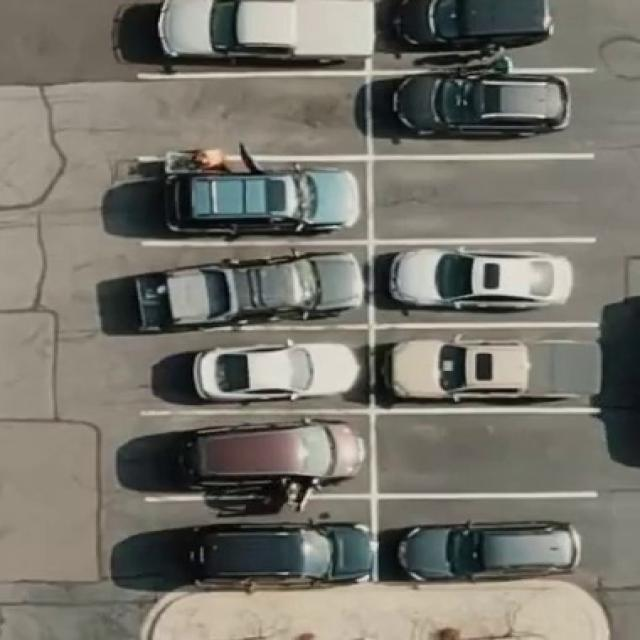empty: (378, 163, 593, 233), (144, 81, 362, 150), (380, 422, 592, 489)
notEmpty: (142, 415, 368, 493), (145, 508, 368, 582), (382, 332, 605, 406), (144, 250, 364, 321), (149, 335, 366, 406), (384, 505, 594, 578), (152, 164, 364, 236), (382, 250, 596, 320), (378, 81, 594, 149), (147, 7, 359, 68), (382, 7, 589, 64)
